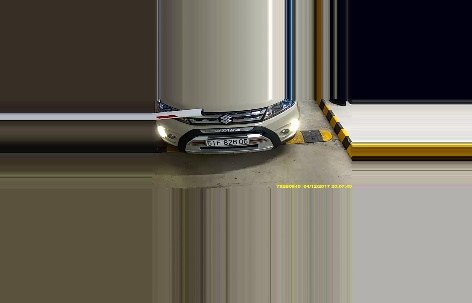plate: (202, 135, 250, 150)
